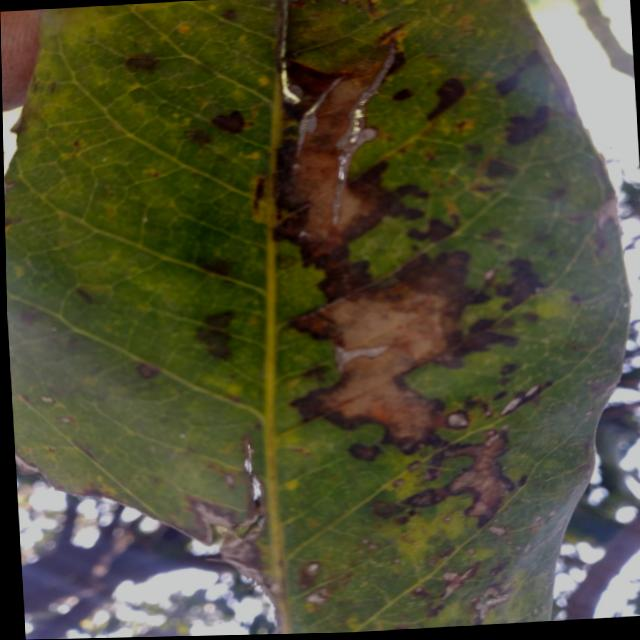Anthracnose: (284, 56, 521, 261), (299, 252, 505, 438), (197, 313, 250, 363), (203, 104, 263, 141)
